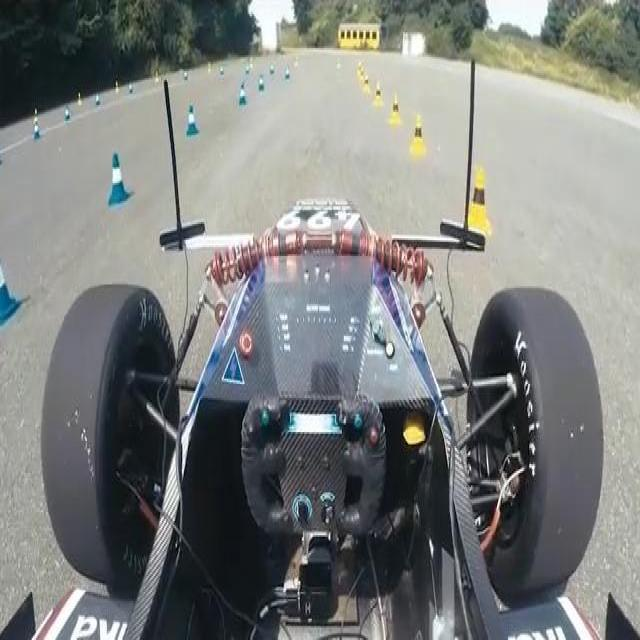blue_cone: (0, 235, 17, 328), (104, 151, 130, 207), (186, 105, 200, 136), (238, 82, 248, 107), (33, 125, 41, 142), (258, 75, 265, 91), (284, 66, 291, 79), (65, 105, 71, 120), (95, 92, 101, 106), (183, 70, 189, 84), (269, 62, 275, 75), (128, 82, 134, 94), (245, 64, 250, 76), (220, 62, 225, 74)
yellow_cone: (461, 165, 494, 239), (408, 116, 428, 160), (387, 94, 404, 128), (371, 82, 386, 106), (361, 75, 370, 93), (76, 92, 83, 106), (358, 69, 365, 83), (154, 68, 160, 84), (355, 62, 361, 74), (114, 82, 120, 94), (33, 109, 38, 122)
